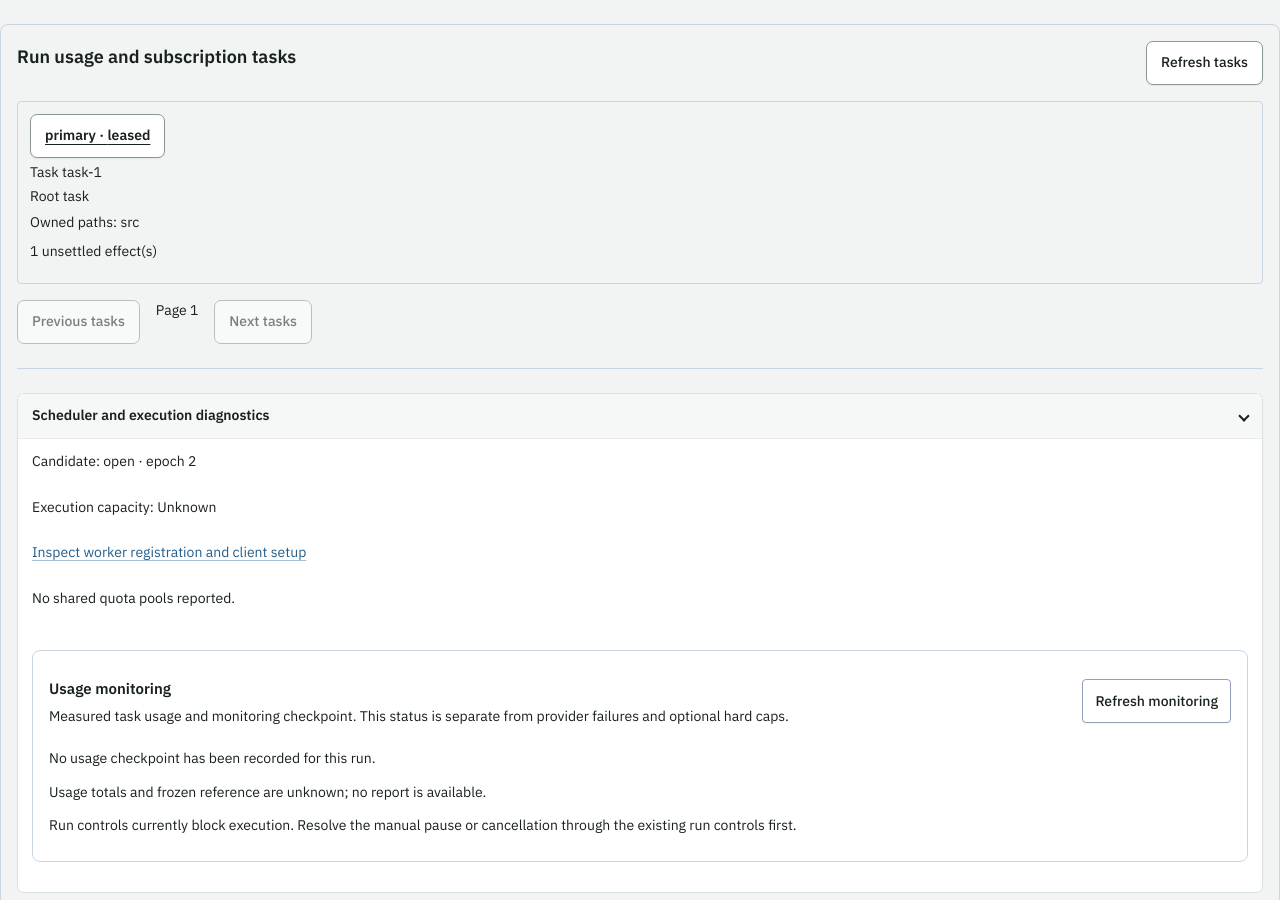
it: loads attempts on selection and preserves unknown usage
This screenshot has width=1280, height=900.
Expected: the text "src" is shown, [120,213,139,231]
Expected: the text "Execution capacity: Unknown" is shown, [32,498,216,516]
What coordinates should you click on to do the following:
click the button with aria-label "Inspect primary task task-1"
I would click on:
 (98, 136)
Its box is [30,114,165,158].
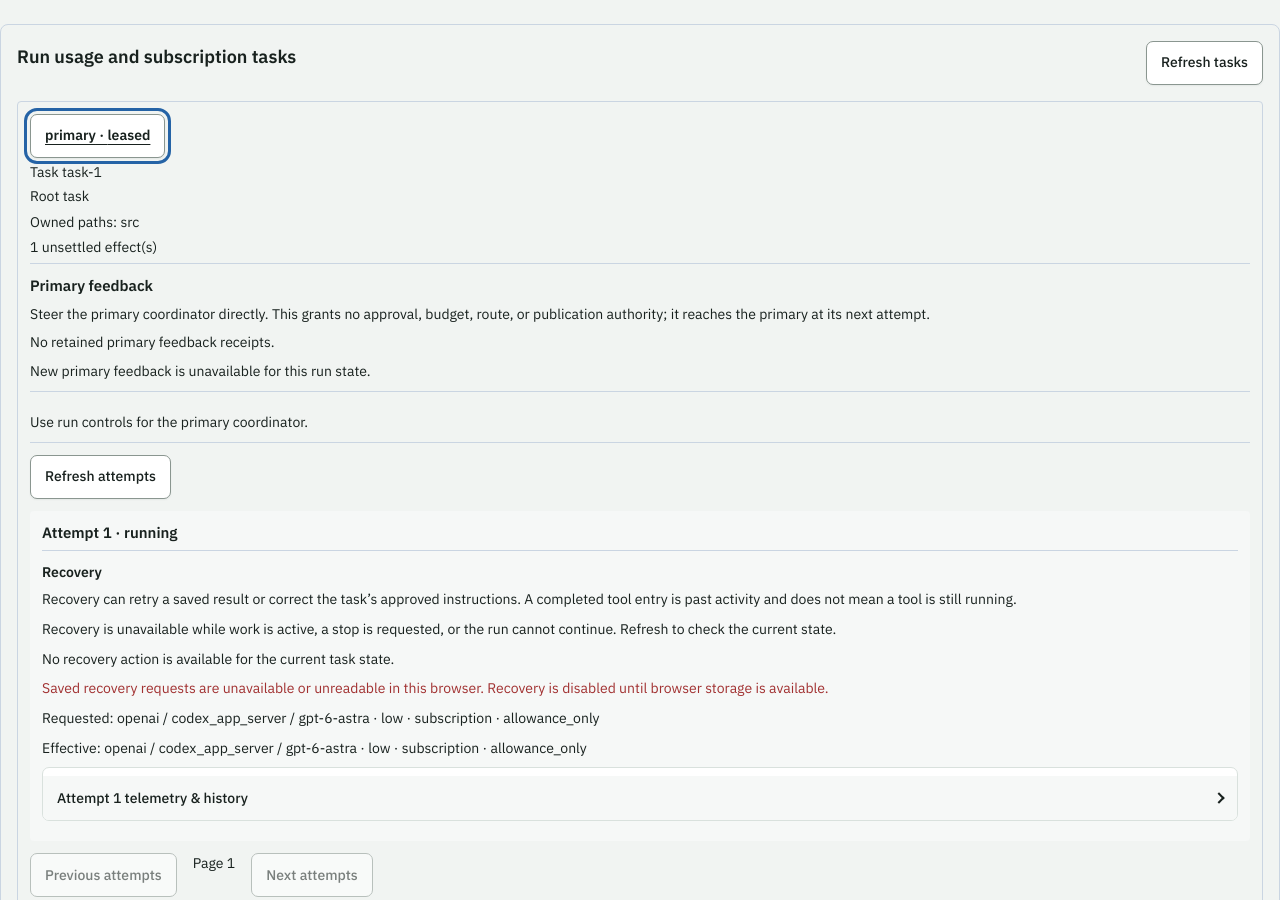
Expected: the text "1 unsettled effect(s)" is shown, [30,238,157,256]
Expected: the heading "Attempt 1 · running" is shown, [42,523,178,542]
